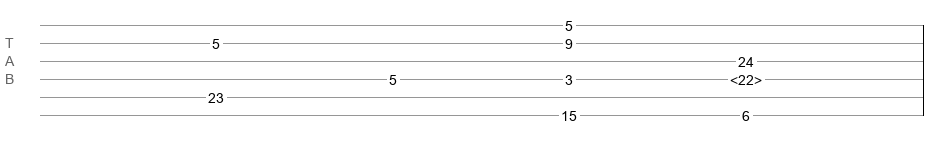15: (561, 108, 577, 118)
23: (208, 90, 224, 100)
24: (738, 54, 754, 64)
3: (565, 72, 573, 82)
5: (212, 36, 220, 46), (389, 72, 397, 82), (565, 18, 573, 28)
6: (742, 108, 750, 118)
9: (565, 36, 573, 46)
harmonic: (730, 72, 762, 82)
